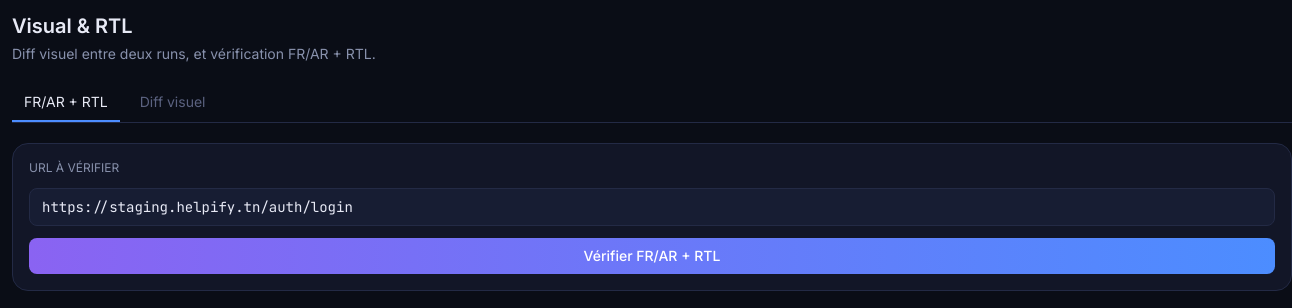
Test: Visual/RTL : onglet diff visuel › moins de deux runs : explication
The width and height of the screenshot is (1292, 308).
Click the button "Diff visuel" at [173, 103], box [128,84,218,122]
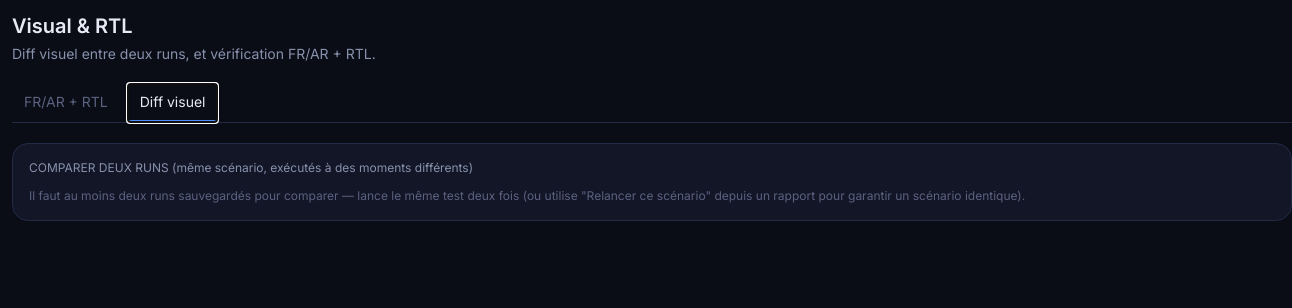
Result: the text "Il faut au moins deux runs" is shown at [29,188,1025,203]
